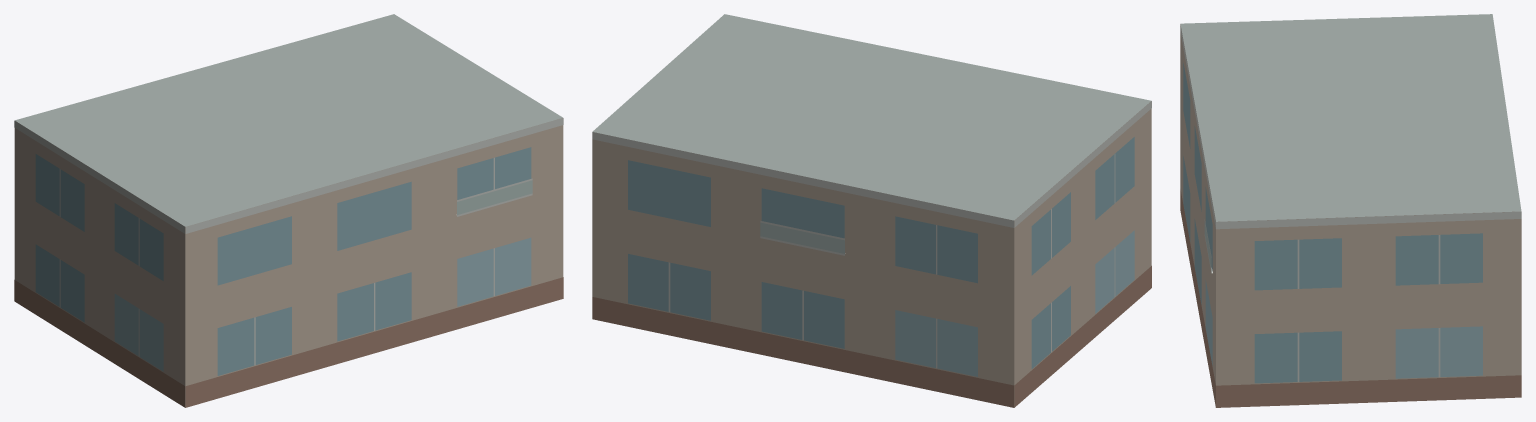
Rendered from survey-upis-32571103.glb.
3 views of the same model, side by side, from view 1: azimuth 30°, elevation 25°; view 2: azimuth 150°, elevation 25°; view 3: azimuth 270°, elevation 25° (orthographic). The views are drawn at different scales.
Visible parts, largest first — view 1: survey-upis-32571103.tmp; view 2: survey-upis-32571103.tmp; view 3: survey-upis-32571103.tmp.
Boxes of the visible parts, x1,y1,x2,y2 form: survey-upis-32571103.tmp: (14,14,563,407); survey-upis-32571103.tmp: (592,14,1151,407); survey-upis-32571103.tmp: (1180,14,1521,407).
Size of the model in its own units: 14.63 by 6.1 by 10.15.
